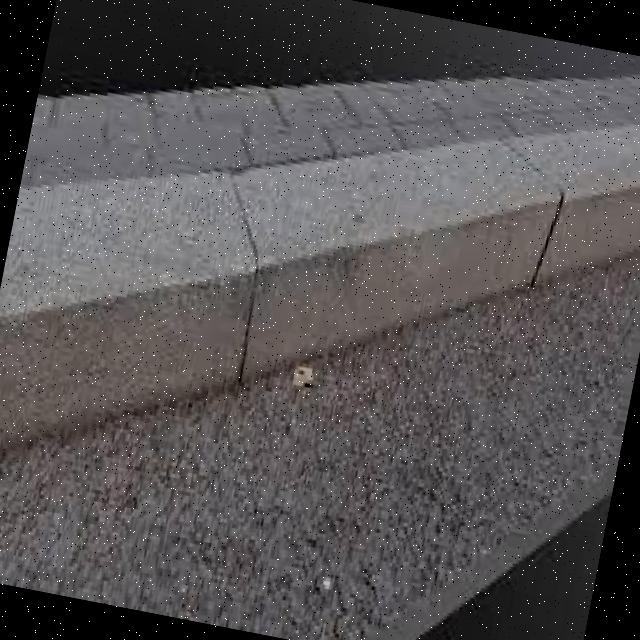curb: (1, 178, 294, 499), (237, 172, 533, 412), (476, 93, 640, 353)
